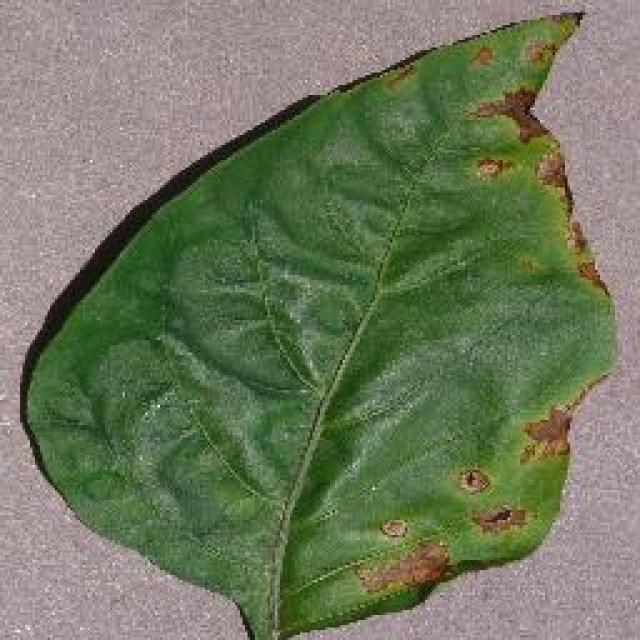Chilli_Bacterial_Spot: (18, 8, 622, 638), (345, 15, 620, 610), (348, 395, 580, 600), (465, 78, 610, 298), (350, 535, 452, 597), (468, 83, 550, 145), (515, 400, 575, 468), (468, 500, 530, 538), (530, 148, 568, 192), (380, 57, 420, 95), (518, 32, 558, 68), (452, 465, 492, 497), (470, 152, 510, 180), (375, 515, 410, 543), (465, 40, 497, 70)
